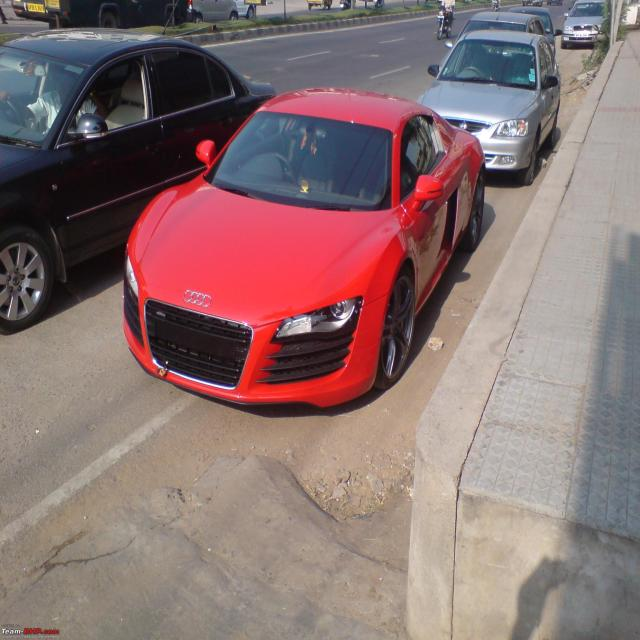black: (0, 29, 274, 330)
red: (122, 122, 476, 416)
silver: (418, 30, 560, 182), (563, 0, 609, 48)
